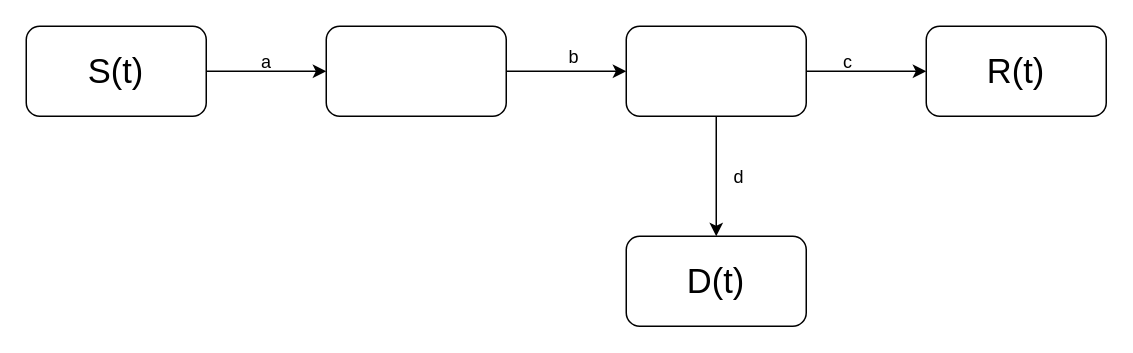
The diagram is 1133 pixels wide and 353 high, and some of its shapes have lost their labels. Here are the shapes that lost their labels. From the top down, the centre of each, then its label:
At point 415,70: "E(t)".
At point 715,70: "I(t)".
